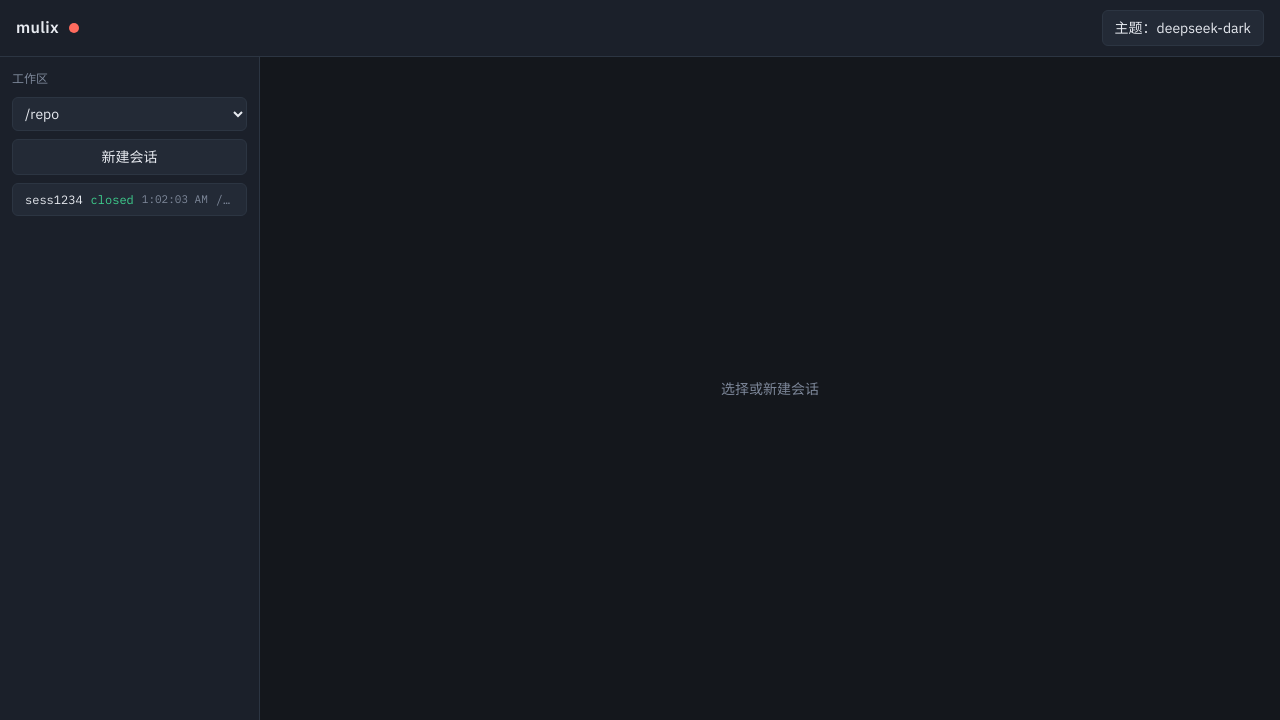
交互面（task-12） › approval 403 → 只读横幅、拦截条退场（评审 C1/M2）
Click the button "sess1234 closed 1:02:03 AM /repo".
click(130, 200)  # box x1=12 y1=183 x2=247 y2=216
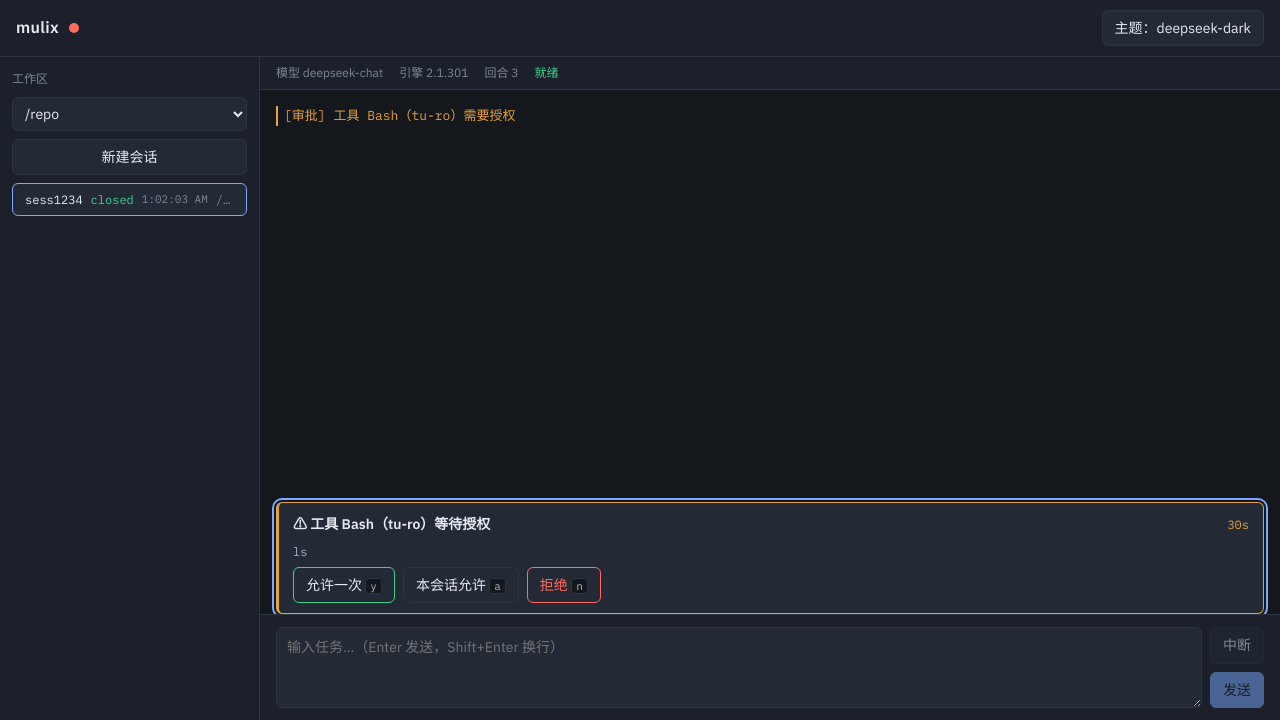
Result: the dialog is shown at x1=276 y1=502 x2=1264 y2=614
Click the button "允许一次 y".
click(344, 585)  # box x1=293 y1=567 x2=395 y2=603
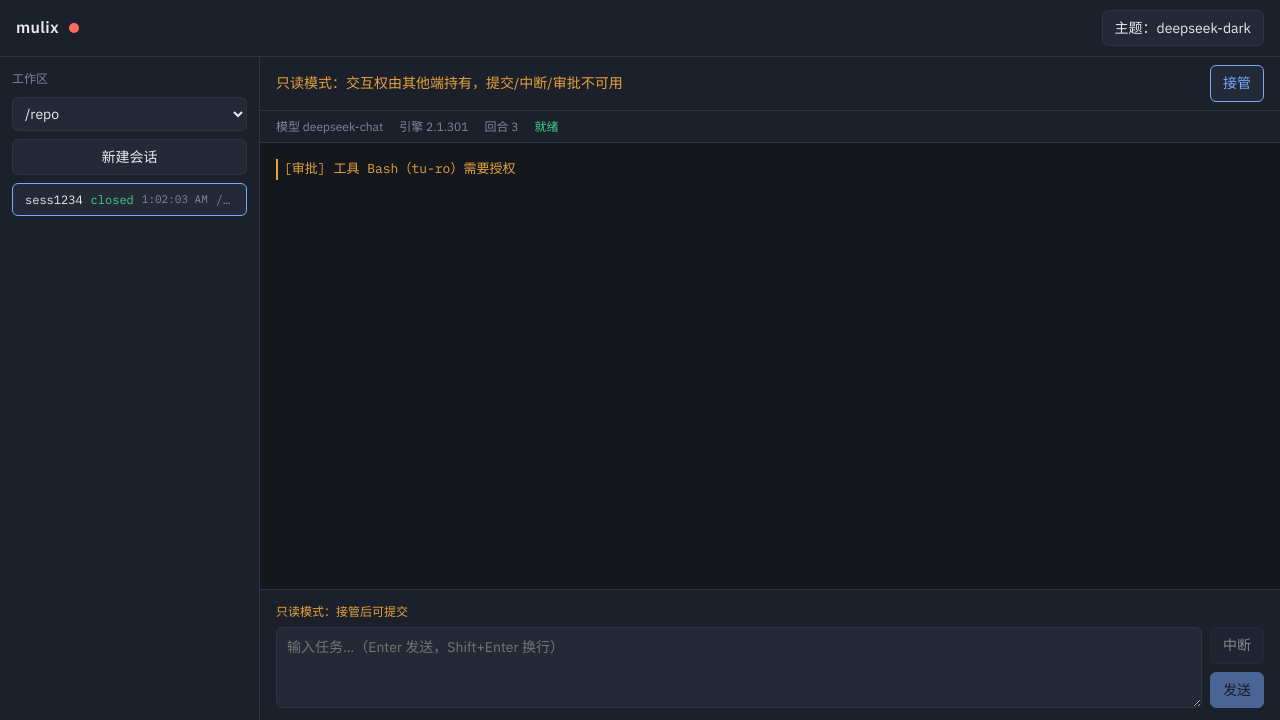
Result: the message "只读模式：交互权由其他端持有，提交/中断/审批不可用 接管" is shown at x1=260 y1=57 x2=1279 y2=111
Result: the dialog is gone
